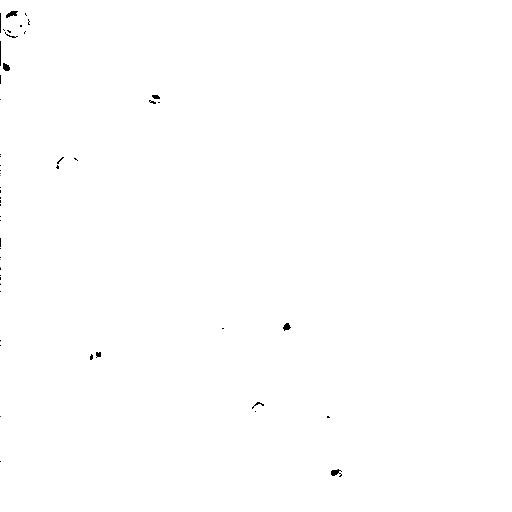micro-algae: (368, 183, 457, 271), (176, 71, 243, 140), (1, 234, 62, 297), (70, 341, 124, 389), (26, 375, 74, 421), (318, 452, 355, 490), (271, 307, 309, 343), (1, 3, 31, 39), (2, 43, 28, 77), (57, 152, 82, 179), (248, 396, 273, 418)
